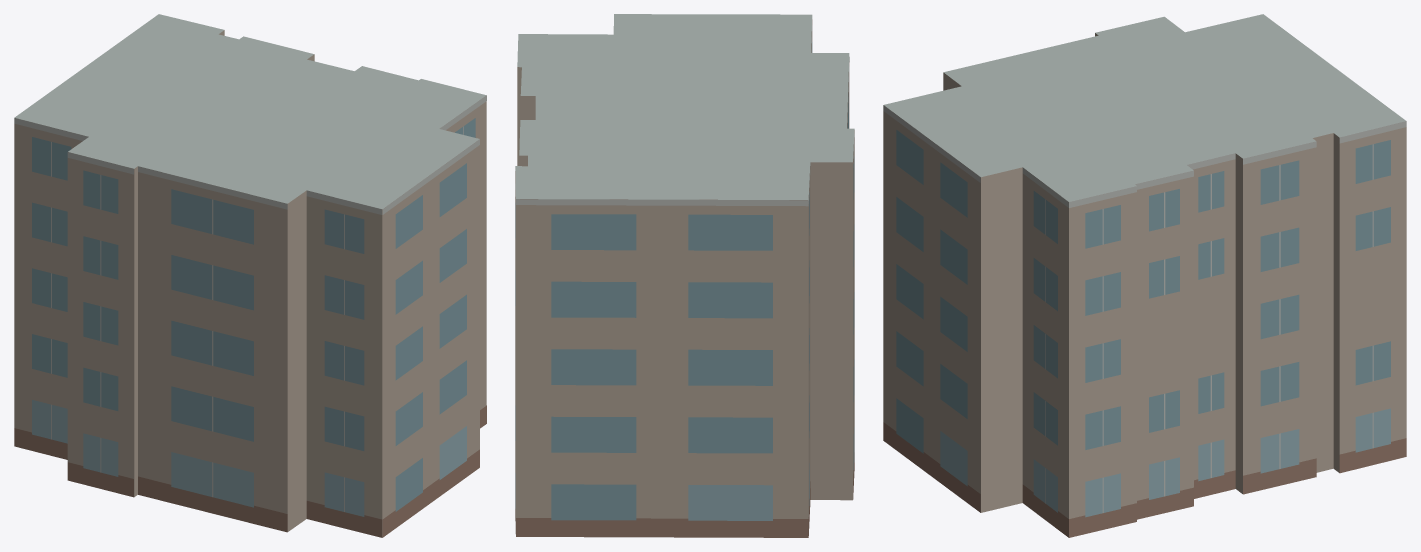
The model's file is survey-upis-32737201.glb.
The picture shows the model from 3 angles, left to right: view 1: azimuth 30°, elevation 25°; view 2: azimuth 150°, elevation 25°; view 3: azimuth 270°, elevation 25°; orthographic projection. The views are drawn at different scales.
Parts seen in each view (by area): view 1: survey-upis-32737201.tmp; view 2: survey-upis-32737201.tmp; view 3: survey-upis-32737201.tmp.
Boxes of the visible parts, x1,y1,x2,y2 form: survey-upis-32737201.tmp: [14, 14, 486, 537]; survey-upis-32737201.tmp: [515, 14, 854, 537]; survey-upis-32737201.tmp: [883, 14, 1406, 537].
Size of the model in its own units: 16.42 by 13.65 by 19.29.
